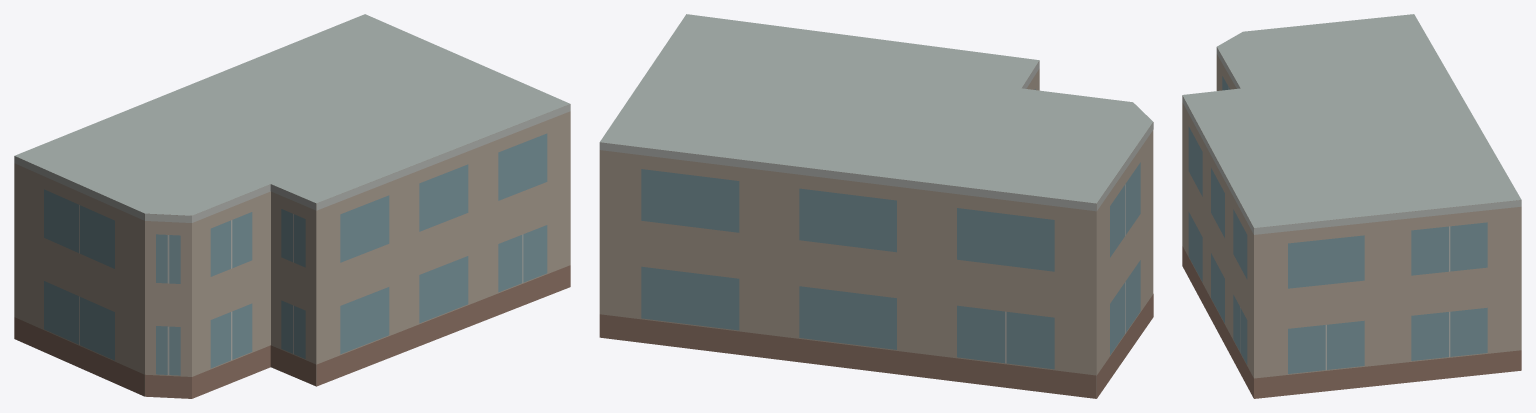
The model's file is survey-upis-33002160.glb.
3 views of the same model, side by side, from view 1: azimuth 30°, elevation 25°; view 2: azimuth 150°, elevation 25°; view 3: azimuth 270°, elevation 25° (orthographic). The views are drawn at different scales.
Parts seen in each view (by area): view 1: survey-upis-33002160.tmp; view 2: survey-upis-33002160.tmp; view 3: survey-upis-33002160.tmp.
Part boxes in pixels (<box>): survey-upis-33002160.tmp: <box>14,14,570,398</box>; survey-upis-33002160.tmp: <box>599,14,1153,398</box>; survey-upis-33002160.tmp: <box>1182,14,1521,398</box>.
Bounding box in the file's own units: 16.41 × 6.1 × 11.
